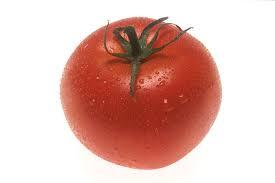non-mango: (59, 15, 222, 170)
